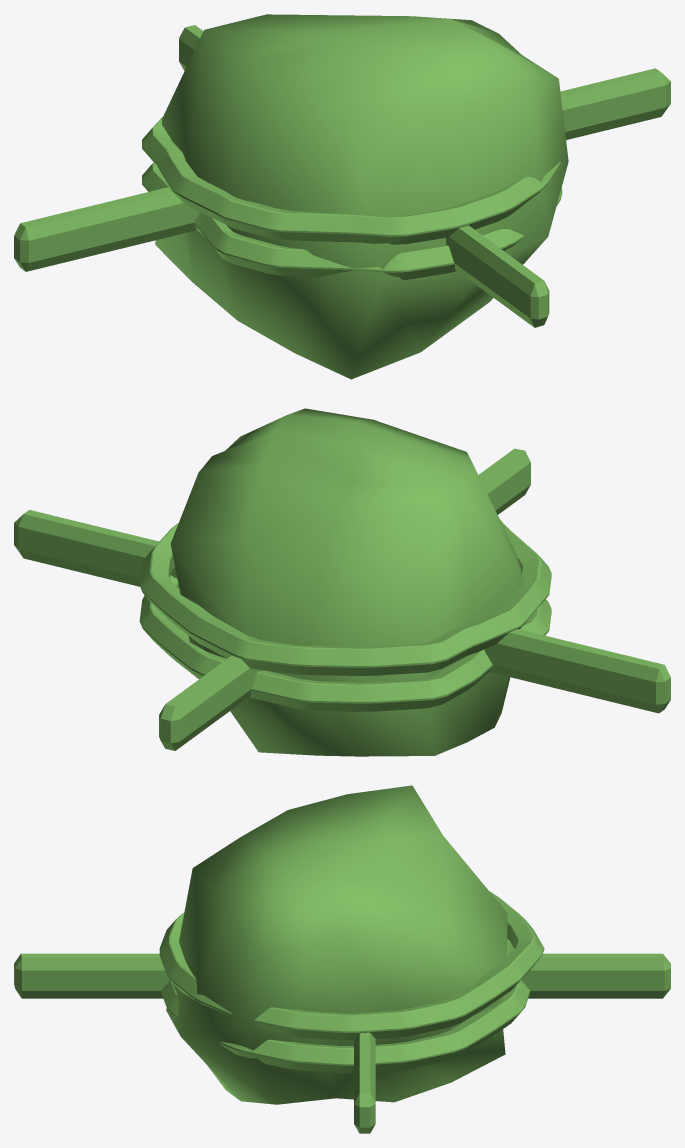
File: Shockwave boulder.fbx
3 views of the same model, one above another, from view 1: azimuth 30°, elevation 25°; view 2: azimuth 150°, elevation 25°; view 3: azimuth 270°, elevation 25° (orthographic). The views are drawn at different scales.
Parts seen in each view (by area): view 1: polySurface133; view 2: polySurface133; view 3: polySurface133.
Part boxes in pixels (left/top/right/bottom): polySurface133: left=14, top=14, right=670, bottom=379; polySurface133: left=14, top=408, right=670, bottom=756; polySurface133: left=14, top=785, right=670, bottom=1133.
Bounding box in the file's own units: 0.4764 × 0.1955 × 0.4538.
